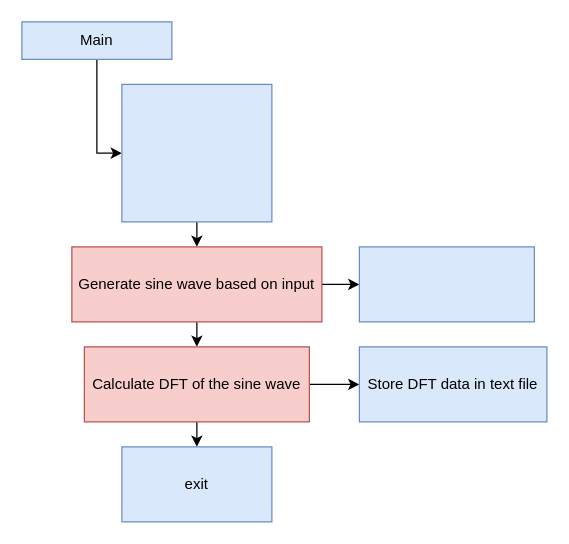
Image size: 569x544. Some labels were removed from this diagram. Each missing label, with the centre of its shape:
"Get input: Fsample Fsignal Amplitude Phase DC" belongs at (196,152).
"Store sine data in text file" belongs at (446,284).
